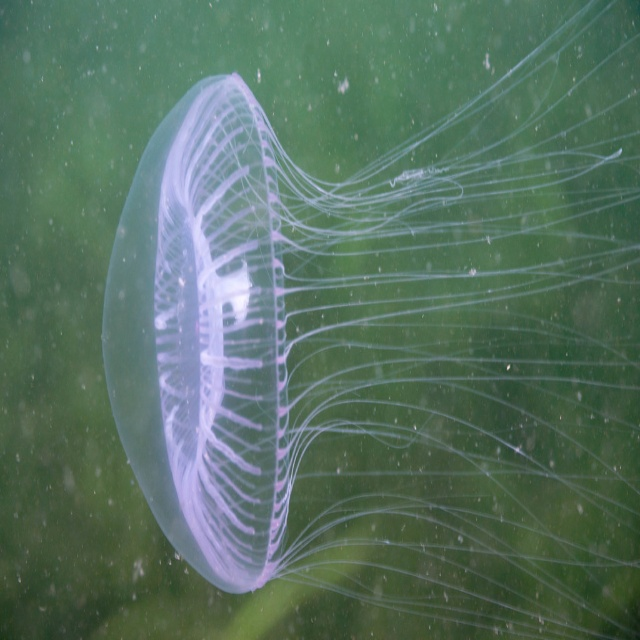Jellyfish: (99, 70, 496, 602)
